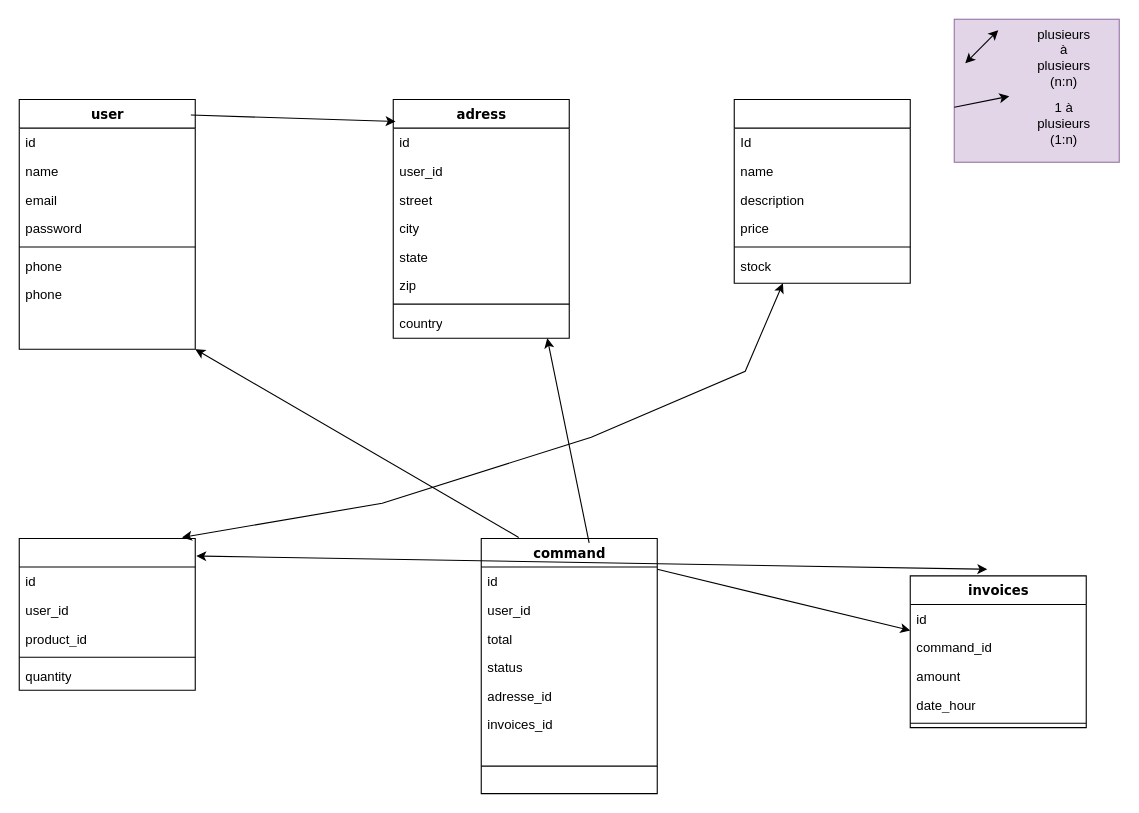
The diagram is 1139 pixels wide and 813 high, and some of its shapes have lost their labels. Here are the shapes that lost their labels. From the top down, the box of each, then its label:
(733, 98, 910, 283): product
(18, 537, 195, 690): cart
